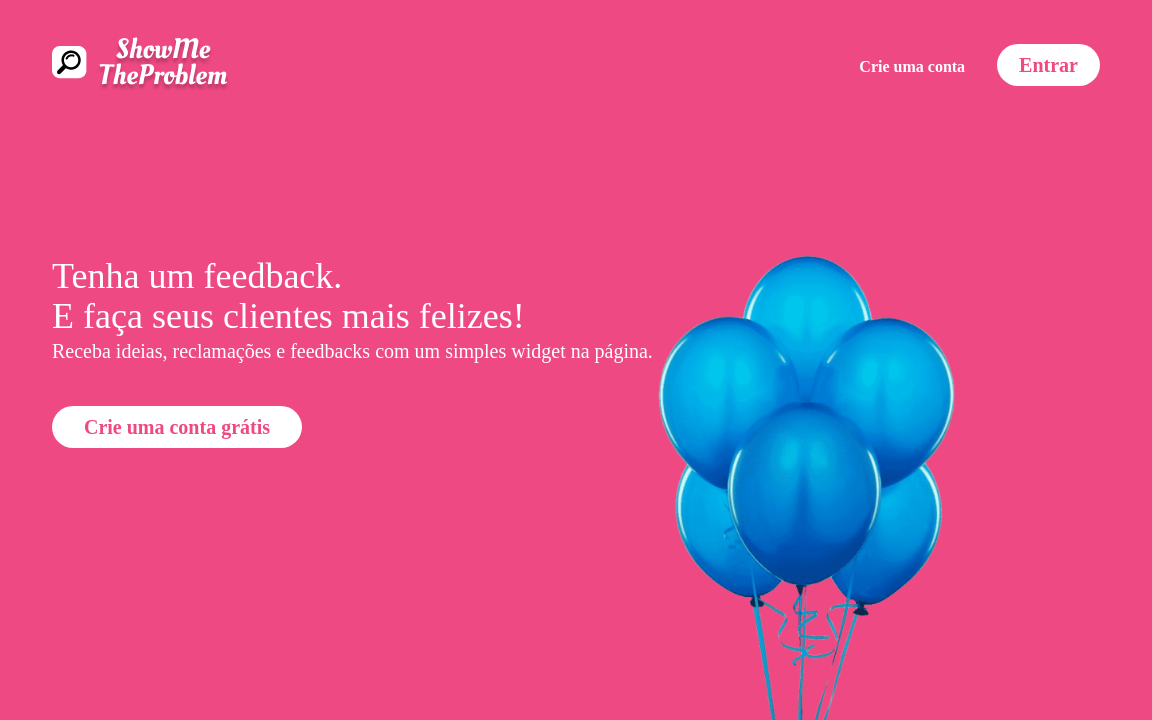
Test case: Home › 🧪 E2E: › Dado o botão "Crie uma conta" do header Quando clicado Então deve abrir o modal
This screenshot has width=1152, height=720.
Click the button with id "button-create" at [928, 67], box [859,55,997,79]
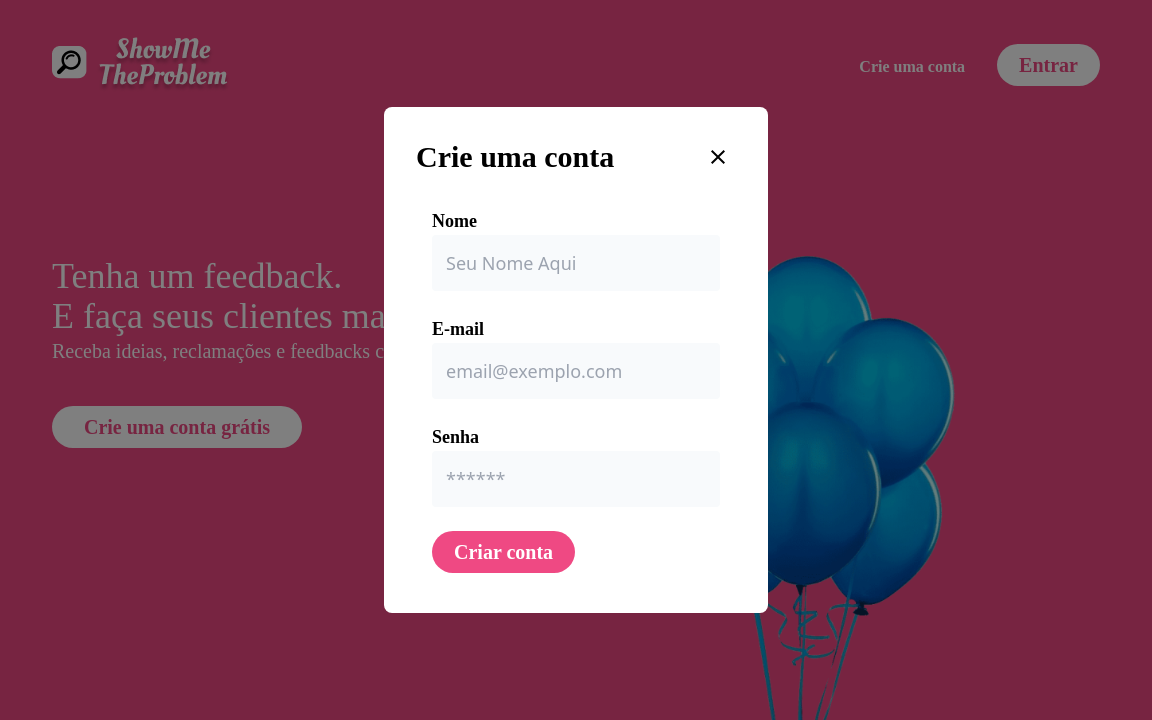
expect the form with id "modal-create-account" is shown: met, box [432,207,720,573]
